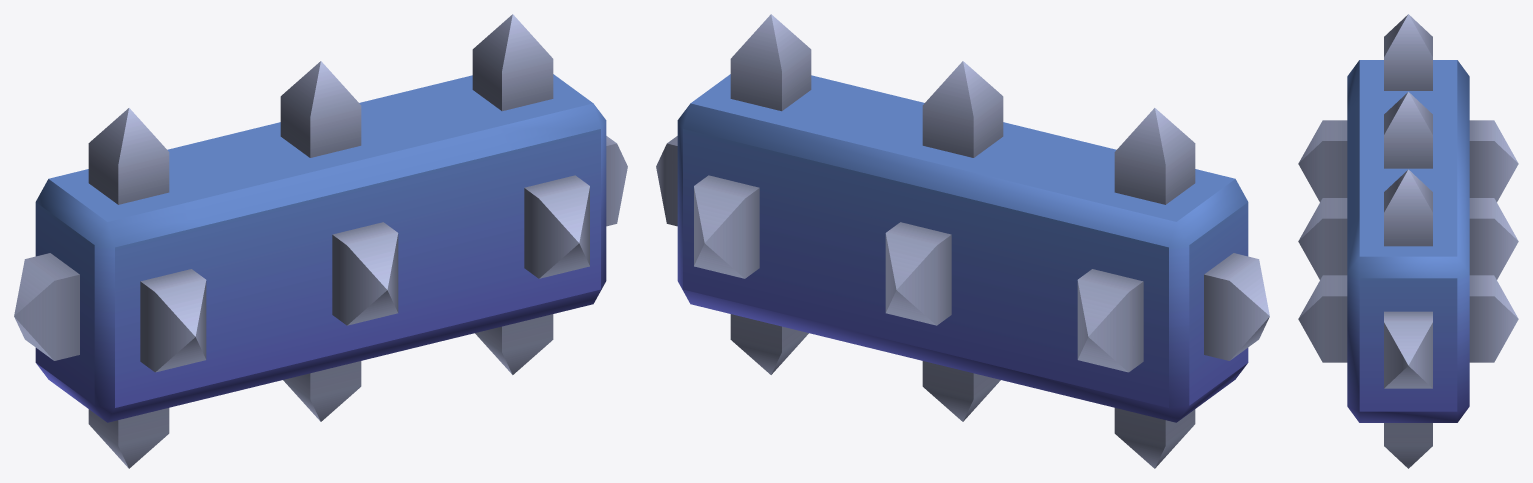
The model's file is obstacle_low_spikes.glb.
3 views of the same model, side by side, from view 1: azimuth 30°, elevation 25°; view 2: azimuth 150°, elevation 25°; view 3: azimuth 270°, elevation 25° (orthographic). The views are drawn at different scales.
Parts seen in each view (by area): view 1: spike-block-wide; view 2: spike-block-wide; view 3: spike-block-wide.
Part boxes in pixels (<box>): spike-block-wide: <box>14,14,627,468</box>; spike-block-wide: <box>656,14,1269,468</box>; spike-block-wide: <box>1298,14,1518,468</box>.
Bounding box in the file's own units: 1.6 × 0.8999 × 0.6001.
1 material, 1 textured.
